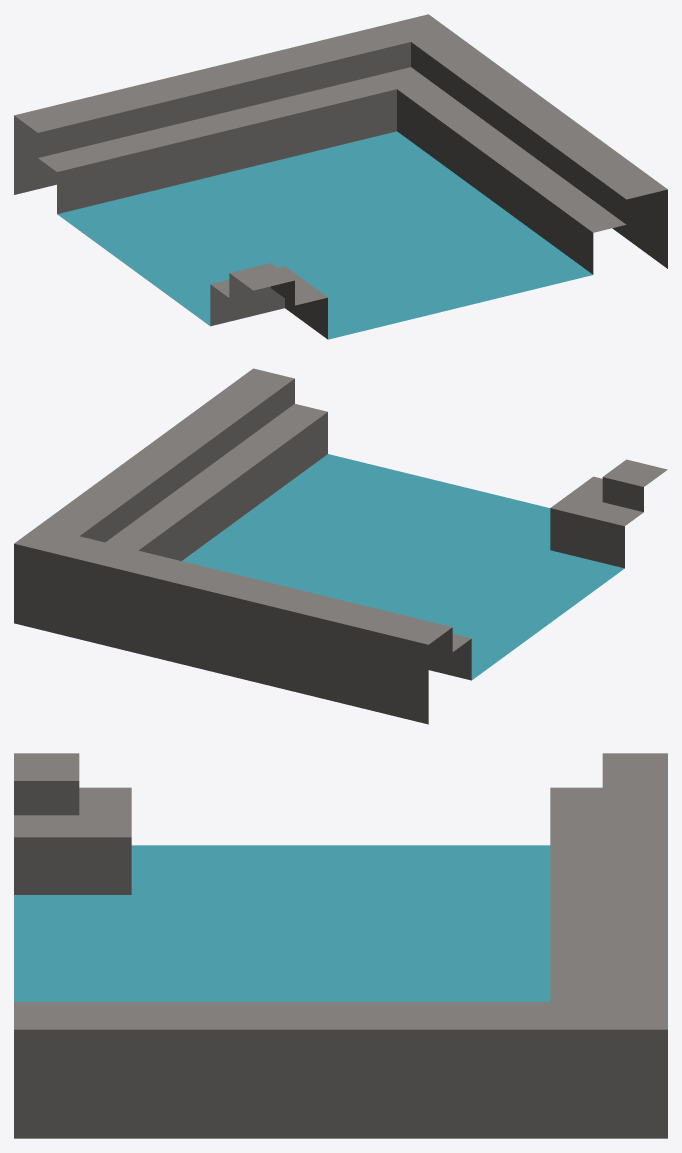
File: SF_Bld_Elven_Stream_Corner_01.fbx
3 renders of one model, top to bottom at view 1: azimuth 30°, elevation 25°; view 2: azimuth 150°, elevation 25°; view 3: azimuth 270°, elevation 25°, orthographic. The views are drawn at different scales.
Parts seen in each view (by area): view 1: SF_Env_Elven_Stream_Corner_01; view 2: SF_Env_Elven_Stream_Corner_01; view 3: SF_Env_Elven_Stream_Corner_01.
Part boxes in pixels (bbox=[...]): SF_Env_Elven_Stream_Corner_01: bbox=[14, 14, 667, 339]; SF_Env_Elven_Stream_Corner_01: bbox=[14, 368, 667, 724]; SF_Env_Elven_Stream_Corner_01: bbox=[14, 753, 667, 1138].
Size of the model in its own units: 3 by 0.5512 by 3.
